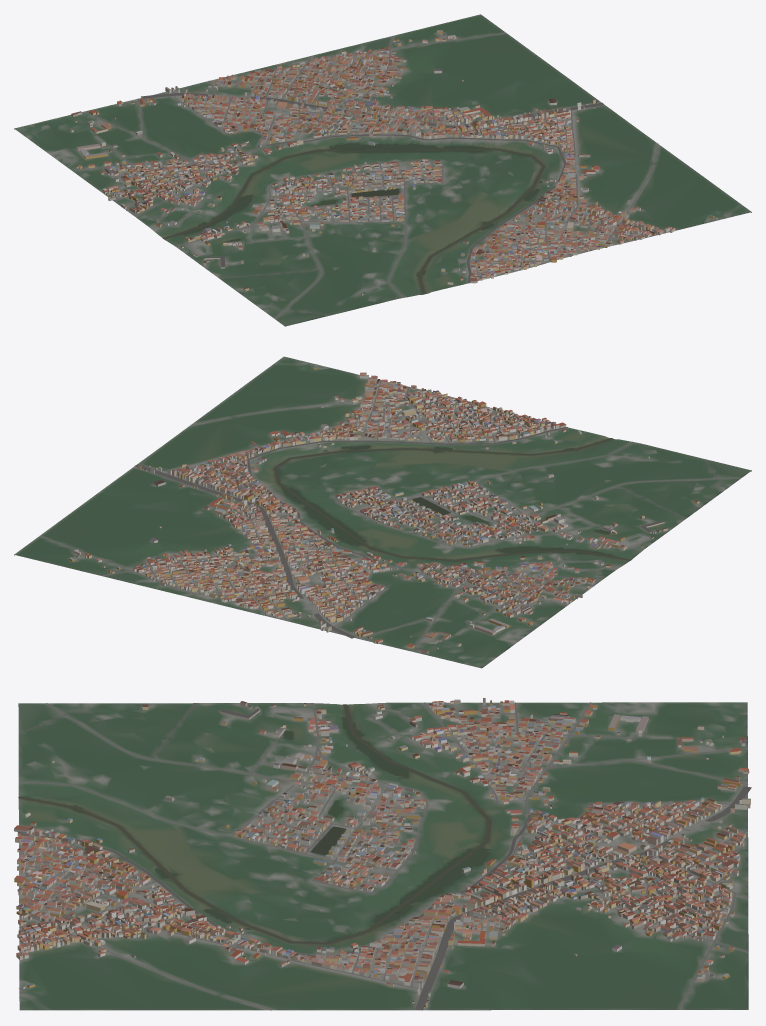
3 views of the same model, one above another, from view 1: azimuth 30°, elevation 25°; view 2: azimuth 150°, elevation 25°; view 3: azimuth 270°, elevation 25° (orthographic). The views are drawn at different scales.
Visible parts, largest first — view 1: ground, buildings, roads, water; view 2: ground, buildings, roads, water; view 3: ground, buildings, roads, water.
Boxes of the visible parts, bbox=[...] form: ground: bbox=[14, 14, 751, 326]; buildings: bbox=[69, 30, 717, 295]; roads: bbox=[72, 33, 723, 318]; water: bbox=[163, 143, 545, 294]; ground: bbox=[14, 356, 751, 668]; buildings: bbox=[69, 364, 699, 653]; roads: bbox=[39, 364, 741, 651]; water: bbox=[273, 438, 630, 560]; ground: bbox=[18, 702, 748, 1010]; buildings: bbox=[14, 698, 750, 1007]; roads: bbox=[18, 702, 751, 1010]; water: bbox=[18, 704, 491, 944].
Bounding box in the file's own units: 1409 × 27.14 × 1419.
